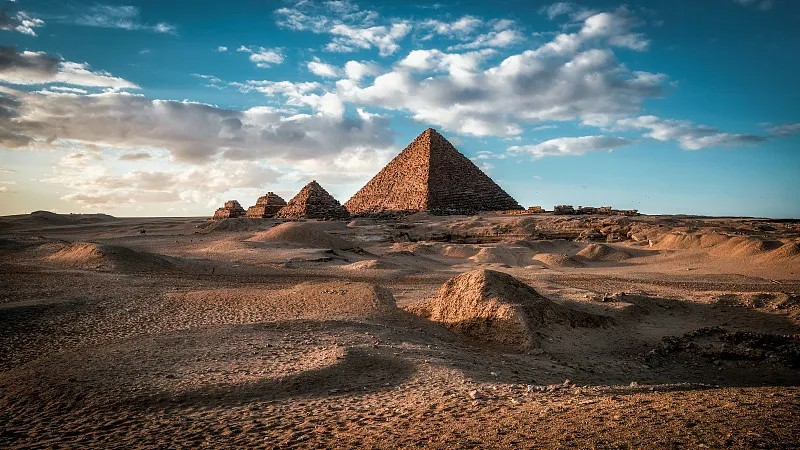Pyramid: (343, 127, 525, 214), (274, 180, 351, 221), (246, 192, 288, 219), (214, 201, 245, 219)
